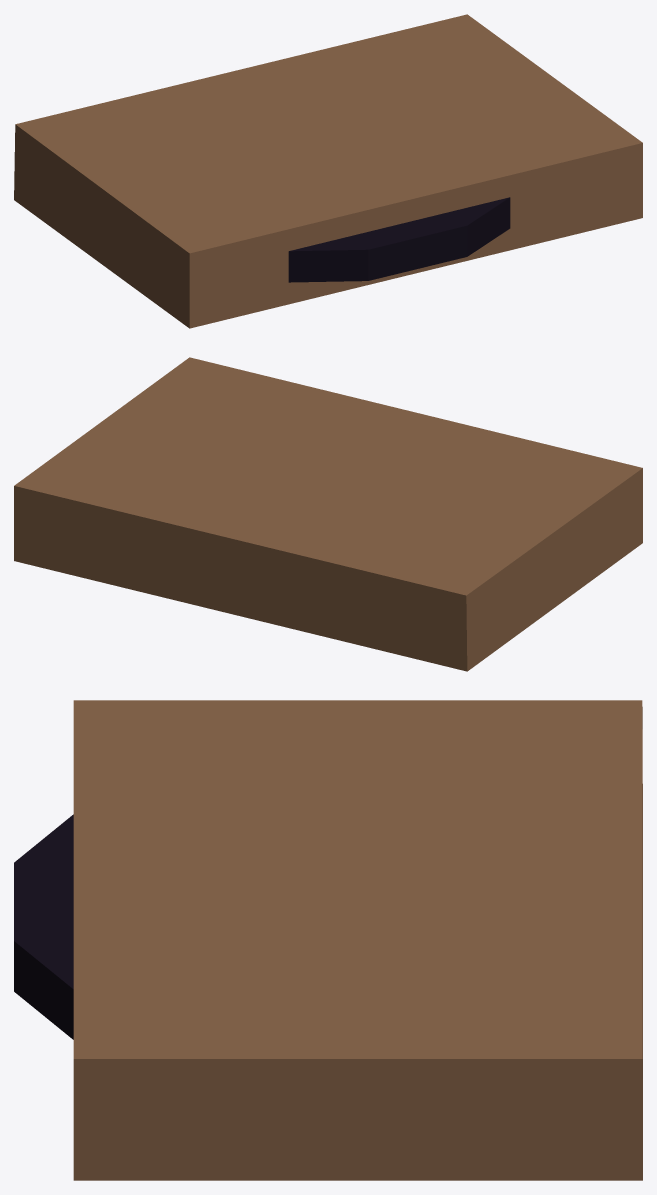
Rendered from Dining_TableDrawer.fbx.
The picture shows the model from 3 angles, top to bottom: view 1: azimuth 30°, elevation 25°; view 2: azimuth 150°, elevation 25°; view 3: azimuth 270°, elevation 25°; orthographic projection. The views are drawn at different scales.
Parts seen in each view (by area): view 1: TableDrawer; view 2: TableDrawer; view 3: TableDrawer.
Part boxes in pixels (box(x1,y1,x2,y2)): TableDrawer: box(14, 14, 642, 328); TableDrawer: box(14, 357, 642, 671); TableDrawer: box(14, 700, 642, 1180).
Bounding box in the file's own units: 150 × 111 × 23.89.
